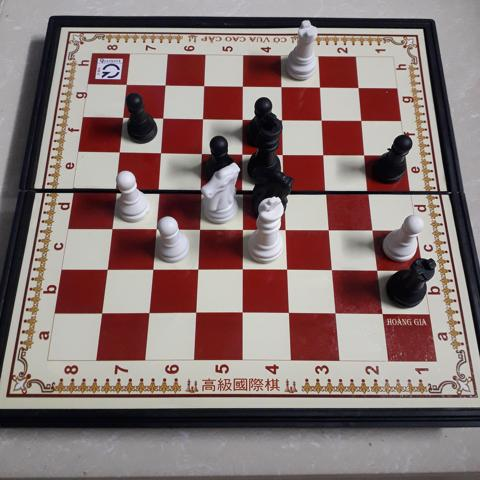xcorner: (281, 304, 297, 321), (189, 259, 205, 276), (190, 218, 207, 234), (321, 219, 337, 236), (364, 220, 381, 236), (276, 180, 292, 197), (111, 142, 127, 159), (356, 145, 373, 161), (194, 109, 211, 125), (118, 76, 135, 92), (311, 78, 327, 95), (94, 303, 110, 319), (141, 303, 157, 319), (187, 304, 203, 320), (234, 304, 250, 320), (327, 305, 343, 321), (374, 305, 390, 321), (99, 259, 115, 275), (144, 259, 160, 275), (234, 260, 250, 276), (279, 260, 295, 276), (324, 261, 340, 277), (369, 261, 385, 277), (103, 217, 119, 233), (147, 218, 163, 234), (234, 219, 250, 235), (278, 219, 294, 235), (107, 179, 123, 195), (150, 179, 166, 195), (192, 180, 208, 196), (234, 180, 250, 196), (318, 181, 334, 197), (360, 181, 376, 197), (152, 143, 168, 159), (193, 143, 209, 159), (234, 144, 250, 160), (275, 144, 291, 160), (316, 145, 332, 161), (115, 108, 131, 124), (155, 109, 171, 125), (234, 110, 250, 126), (274, 110, 290, 126), (313, 111, 329, 127), (353, 111, 369, 127), (157, 77, 173, 93), (196, 77, 212, 93), (234, 78, 250, 94), (273, 78, 289, 94), (349, 79, 365, 95)
